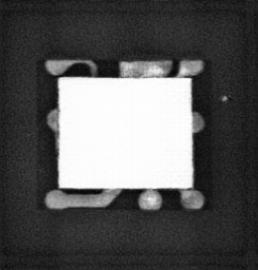DIE_INK: (219, 93, 230, 103)
